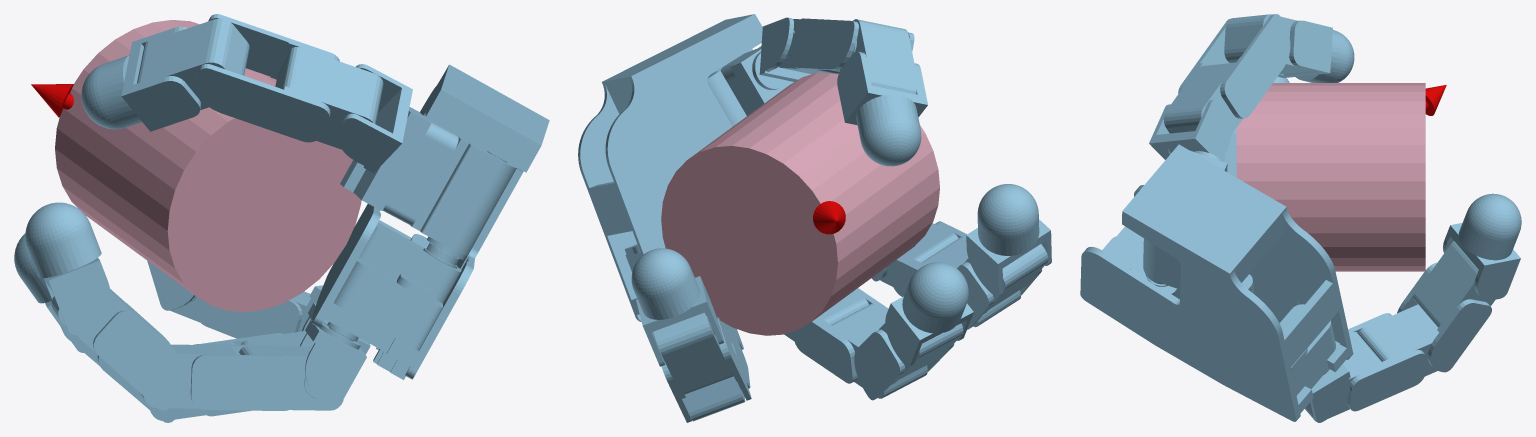
The picture shows the model from 3 angles, left to right: view 1: azimuth 30°, elevation 25°; view 2: azimuth 150°, elevation 25°; view 3: azimuth 270°, elevation 25°; orthographic projection. The views are drawn at different scales.
Parts seen in each view (by area): view 1: world, cylinder_medium.stl; view 2: world, cylinder_medium.stl; view 3: world, cylinder_medium.stl.
Boxes of the visible parts, left/top/right/bottom form: world: left=14, top=14, right=549, bottom=422; cylinder_medium.stl: left=55, top=20, right=361, bottom=312; world: left=578, top=14, right=1051, bottom=422; cylinder_medium.stl: left=661, top=72, right=939, bottom=335; world: left=1080, top=14, right=1521, bottom=422; cylinder_medium.stl: left=1236, top=83, right=1425, bottom=271.
Bounding box in the file's own units: 0.2051 × 0.1608 × 0.1869.
